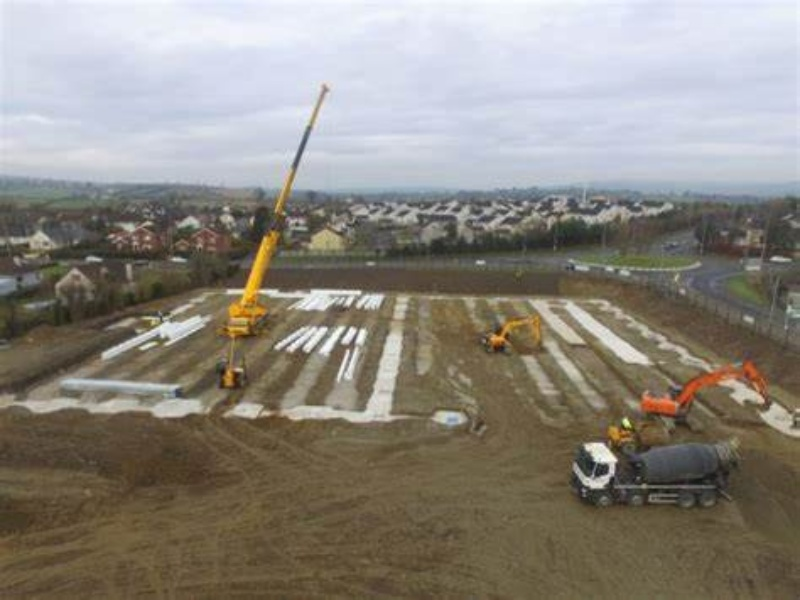crane: (209, 78, 338, 345)
excavator: (639, 356, 773, 431), (478, 311, 547, 360)
